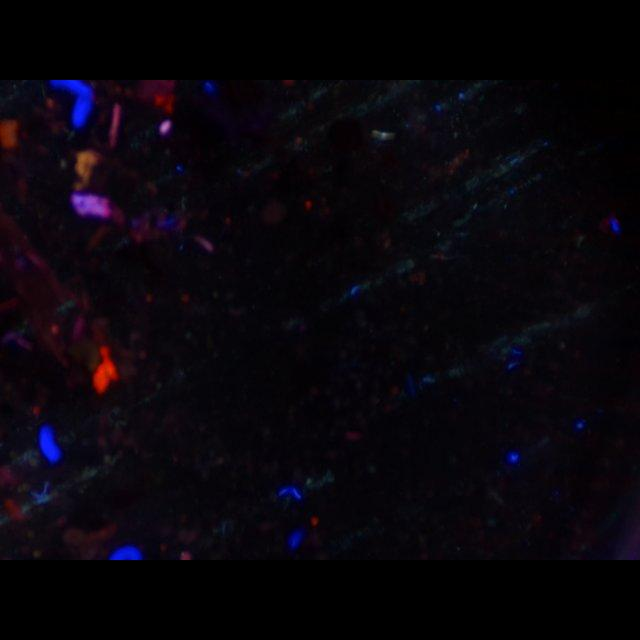microbeads: (372, 126, 398, 142)
